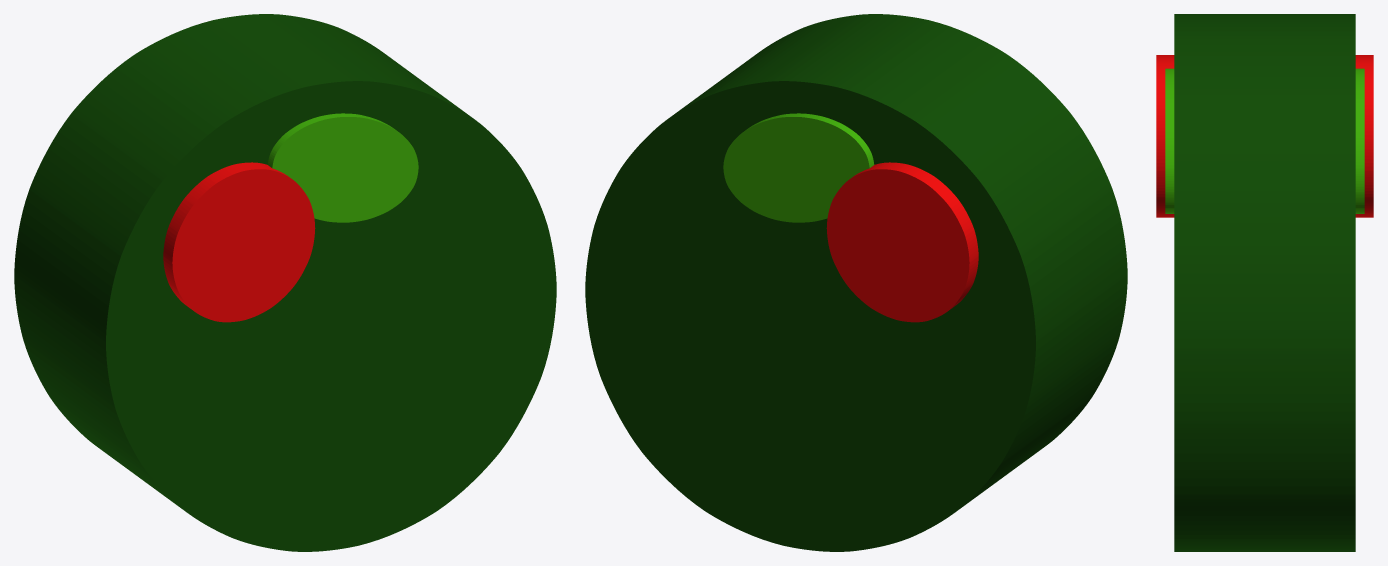
File: U+1FAD2.obj
3 views of the same model, side by side, from view 1: azimuth 30°, elevation 25°; view 2: azimuth 150°, elevation 25°; view 3: azimuth 270°, elevation 25° (orthographic).
Visible parts, largest first — view 1: U+1FAD2_layer00_obj00, U+1FAD2_layer02_obj00, U+1FAD2_layer01_obj00; view 2: U+1FAD2_layer00_obj00, U+1FAD2_layer02_obj00, U+1FAD2_layer01_obj00; view 3: U+1FAD2_layer00_obj00, U+1FAD2_layer02_obj00, U+1FAD2_layer01_obj00.
Part boxes in pixels (box(x1,y1,x2,y2)): U+1FAD2_layer00_obj00: box(14, 14, 556, 551); U+1FAD2_layer02_obj00: box(163, 162, 315, 322); U+1FAD2_layer01_obj00: box(267, 113, 418, 222); U+1FAD2_layer00_obj00: box(585, 14, 1127, 551); U+1FAD2_layer02_obj00: box(826, 162, 978, 322); U+1FAD2_layer01_obj00: box(723, 113, 874, 222); U+1FAD2_layer00_obj00: box(1174, 14, 1355, 551); U+1FAD2_layer02_obj00: box(1156, 55, 1373, 217); U+1FAD2_layer01_obj00: box(1165, 68, 1364, 213).
Size of the model in its own units: 0.5678 by 0.5677 by 0.24.
